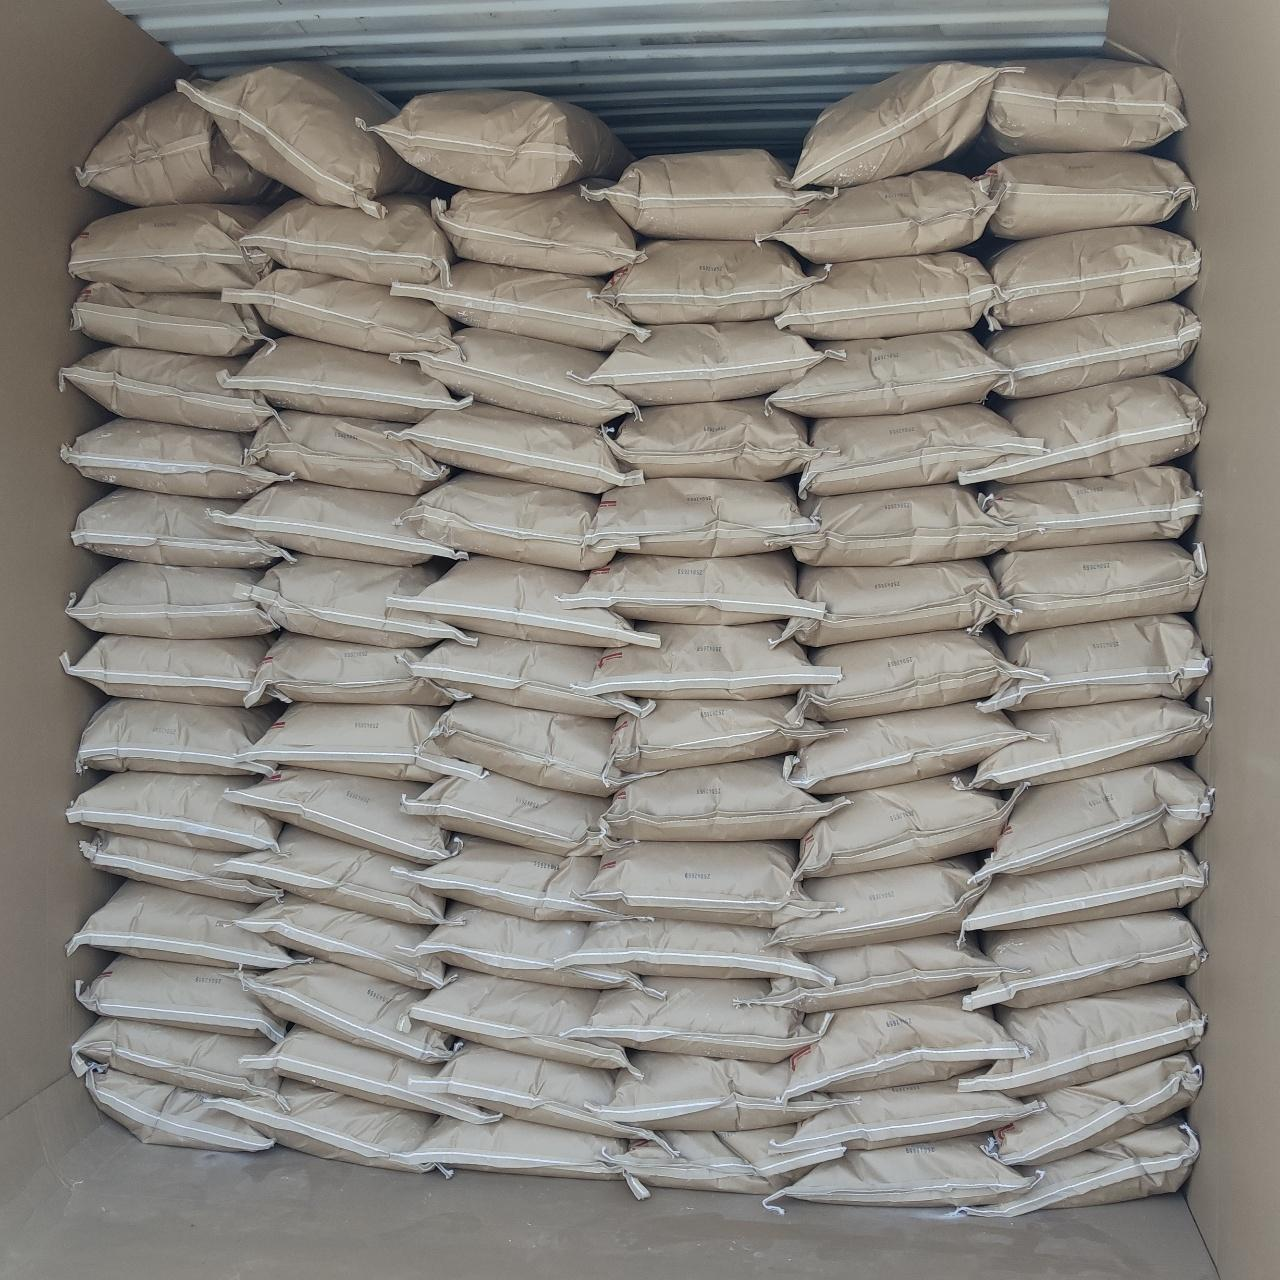sack: (178, 62, 418, 208), (786, 64, 1010, 190), (962, 980, 1202, 1094), (962, 376, 1202, 484), (238, 1026, 496, 1124), (372, 92, 628, 190), (984, 762, 1212, 870), (786, 994, 1028, 1094), (422, 1042, 660, 1142), (390, 556, 652, 646), (958, 1116, 1196, 1214), (988, 1054, 1198, 1164), (392, 260, 646, 350), (962, 912, 1204, 1006), (394, 400, 640, 492), (76, 90, 274, 204), (800, 404, 1044, 496), (398, 328, 632, 422), (800, 776, 1014, 878), (962, 698, 1210, 786), (412, 970, 630, 1070), (208, 1082, 444, 1174), (412, 904, 658, 992), (584, 150, 828, 238), (228, 826, 446, 924), (980, 616, 1206, 710), (238, 554, 468, 646), (786, 704, 1026, 792), (798, 630, 1038, 718), (568, 978, 824, 1060), (762, 170, 994, 260), (212, 480, 460, 564), (962, 848, 1204, 934), (228, 770, 454, 862), (986, 226, 1198, 324), (242, 962, 454, 1060), (71, 1017, 288, 1112), (988, 302, 1198, 398), (770, 858, 988, 950), (588, 320, 826, 404), (586, 842, 824, 926), (222, 338, 464, 420), (398, 836, 640, 918), (414, 634, 648, 718), (778, 560, 1006, 646), (404, 472, 612, 566), (606, 756, 844, 838), (988, 540, 1204, 630), (776, 252, 996, 340), (236, 896, 446, 988), (756, 934, 1010, 1010), (770, 332, 1004, 414), (422, 698, 624, 792), (408, 1118, 644, 1198), (224, 268, 452, 350), (70, 882, 292, 966), (238, 704, 476, 782), (978, 466, 1198, 550), (562, 552, 818, 624), (768, 1136, 1030, 1206), (784, 1078, 1038, 1150), (242, 196, 452, 282), (402, 772, 622, 854), (794, 484, 1014, 566), (430, 186, 638, 272), (590, 624, 838, 696), (986, 60, 1184, 150), (980, 154, 1192, 238), (60, 346, 270, 430), (596, 1052, 834, 1126), (70, 204, 270, 290), (80, 1060, 270, 1150), (604, 240, 812, 322), (242, 632, 466, 708), (584, 478, 814, 552), (74, 488, 292, 566), (244, 410, 446, 494), (76, 956, 282, 1038), (62, 418, 284, 494), (606, 398, 816, 478), (68, 772, 278, 852), (612, 698, 832, 774), (606, 1126, 838, 1194), (566, 920, 828, 980), (68, 562, 278, 636), (78, 698, 276, 774), (72, 284, 270, 356), (64, 636, 266, 706), (82, 832, 278, 902)
